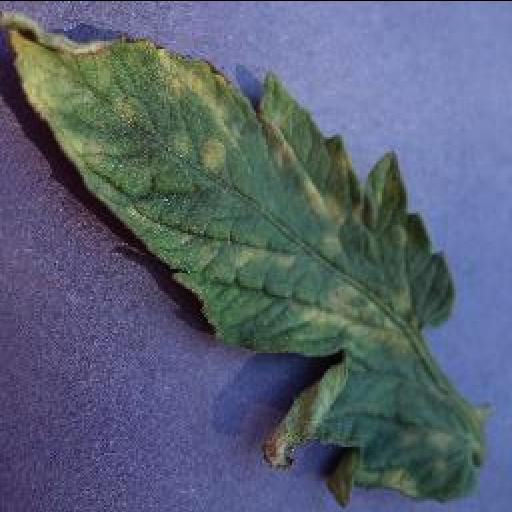disease_tomato: (0, 13, 492, 505)
